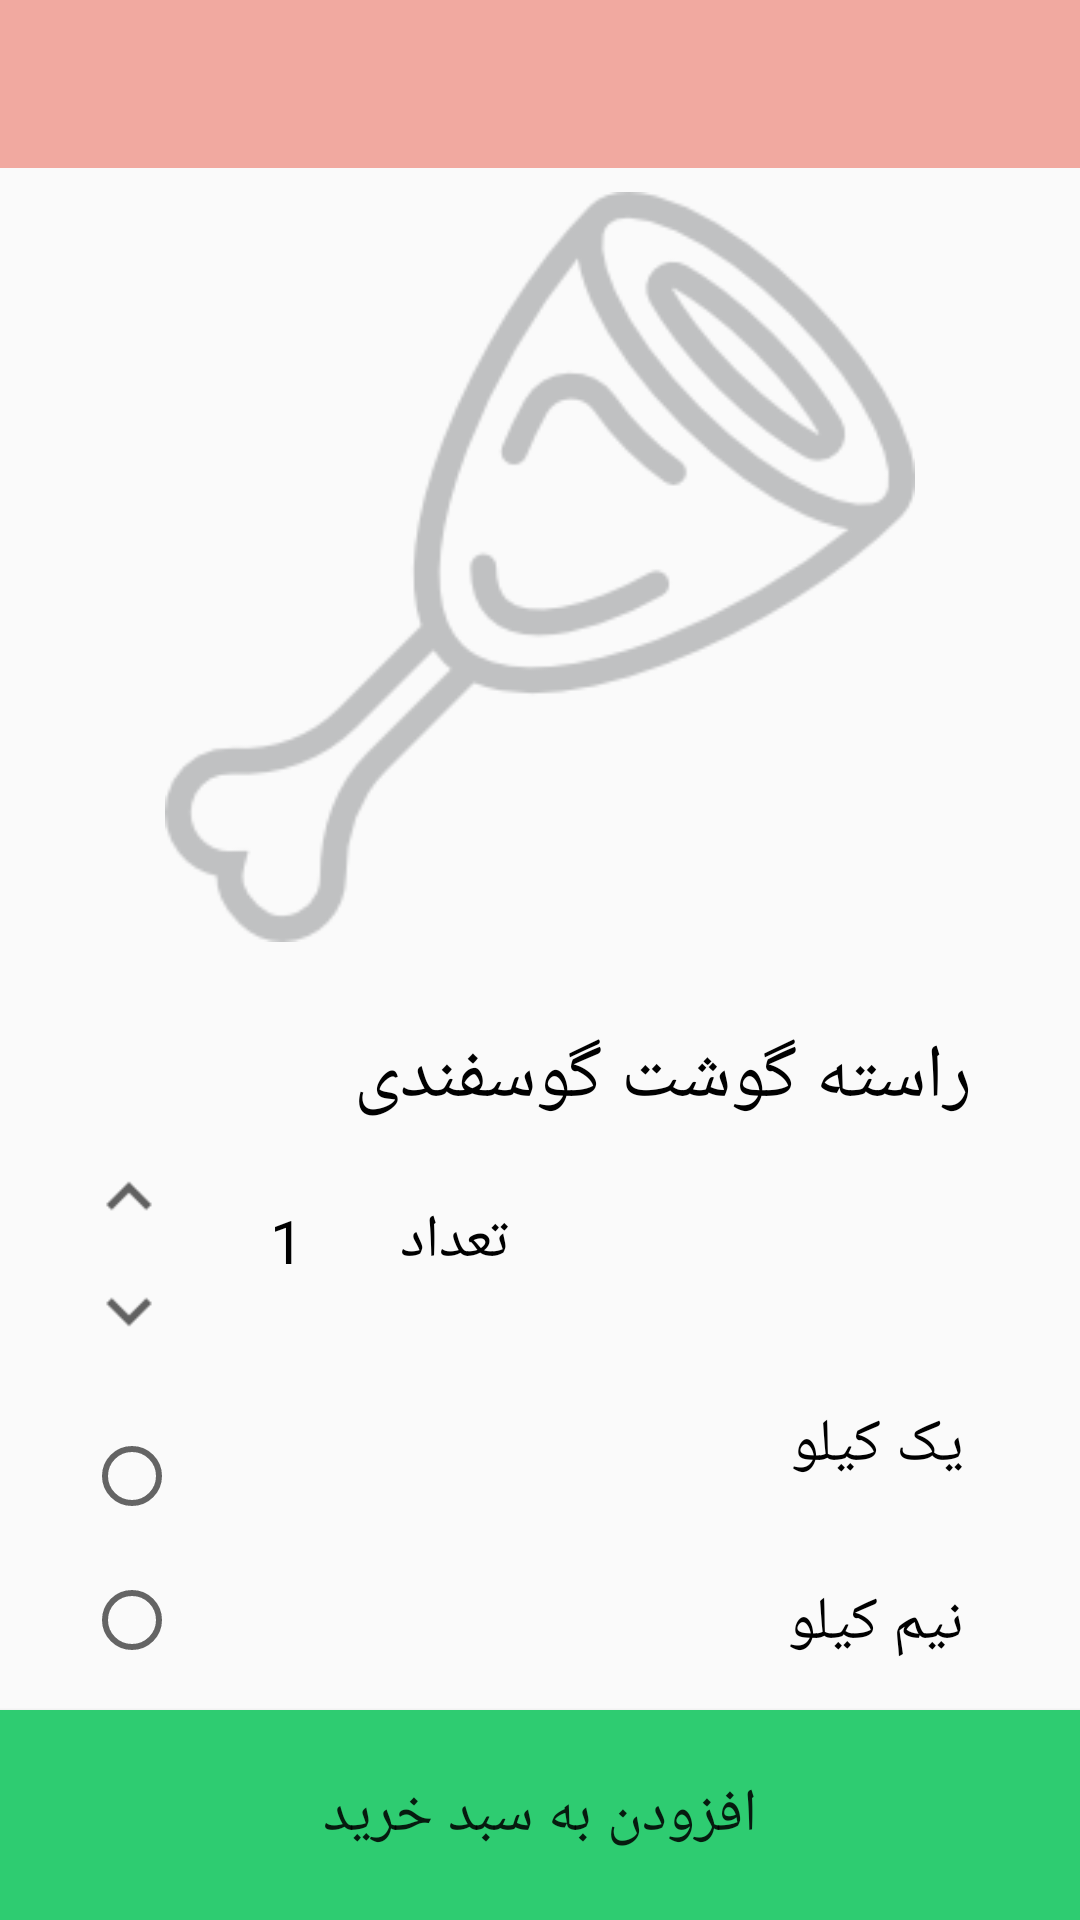

Icon bounding boxes for this 1080×1920 phone screenshot, format (x1, y1, x2, y2):
chevron down: (106, 1298, 152, 1326)
chevron up: (106, 1182, 152, 1210)
